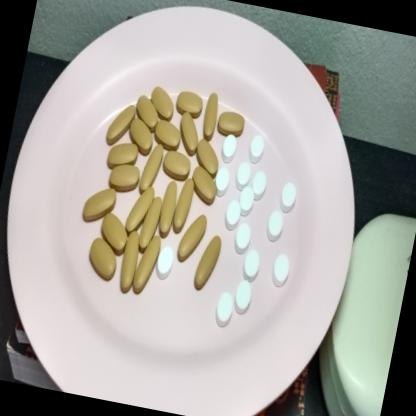Paracetamol: (230, 216, 256, 258), (229, 277, 256, 317), (211, 289, 237, 329), (154, 242, 177, 282), (268, 250, 292, 288), (216, 128, 239, 165), (234, 180, 257, 217), (262, 208, 286, 243), (248, 166, 270, 204), (277, 177, 300, 213), (221, 196, 243, 233), (245, 130, 268, 165), (212, 162, 233, 200), (240, 247, 262, 280), (233, 158, 254, 192)
VitaminB: (128, 230, 164, 298), (172, 204, 209, 268), (190, 228, 225, 294), (80, 234, 121, 286), (114, 226, 144, 297), (102, 92, 138, 147), (135, 137, 166, 195), (137, 190, 165, 253), (122, 183, 155, 236), (96, 206, 132, 254), (186, 162, 222, 210), (196, 83, 224, 141), (102, 134, 140, 176), (170, 176, 196, 237), (156, 178, 181, 238), (174, 109, 204, 156), (122, 116, 154, 160), (192, 133, 224, 177), (105, 160, 142, 198), (212, 104, 247, 144), (159, 144, 195, 182), (150, 112, 184, 152), (146, 83, 180, 121), (172, 80, 206, 116), (130, 93, 161, 130)
